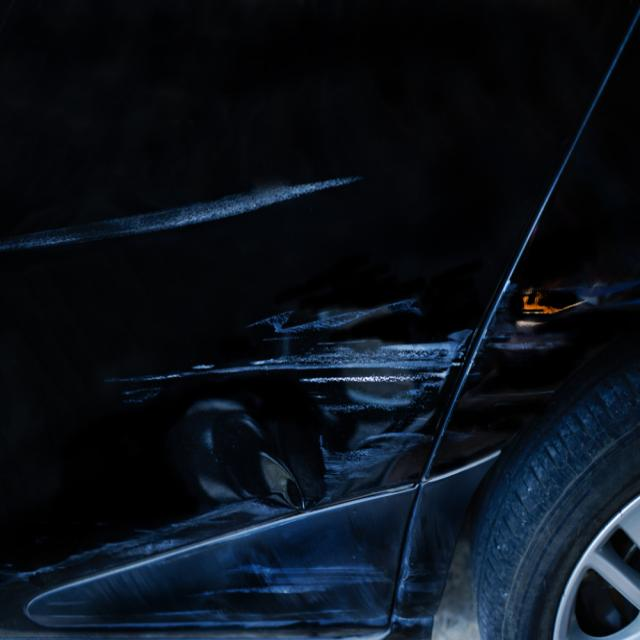dent: (154, 376, 330, 522)
scratch: (241, 288, 483, 488), (128, 562, 396, 635), (490, 280, 640, 360)
